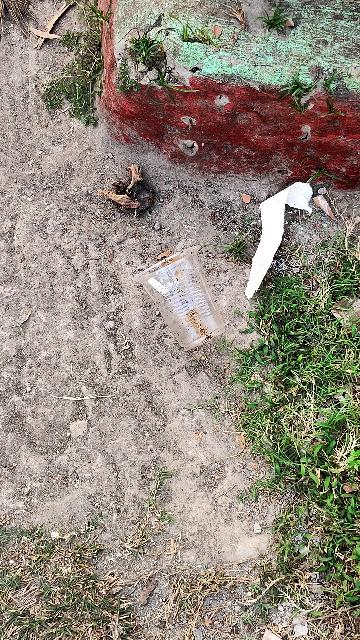bottle: (135, 240, 237, 356)
